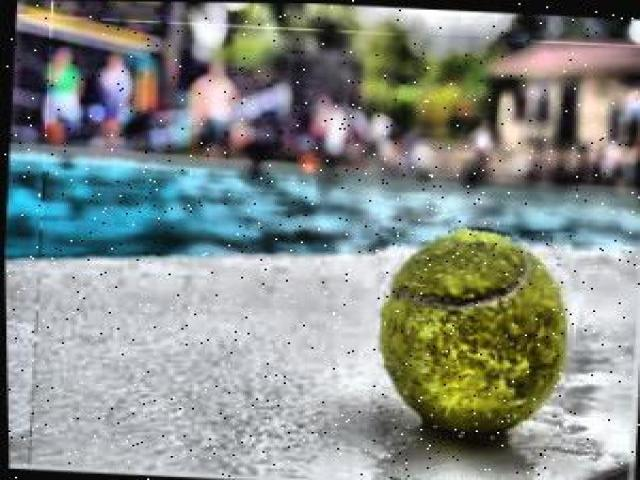tennis-ball: (378, 228, 568, 439)
